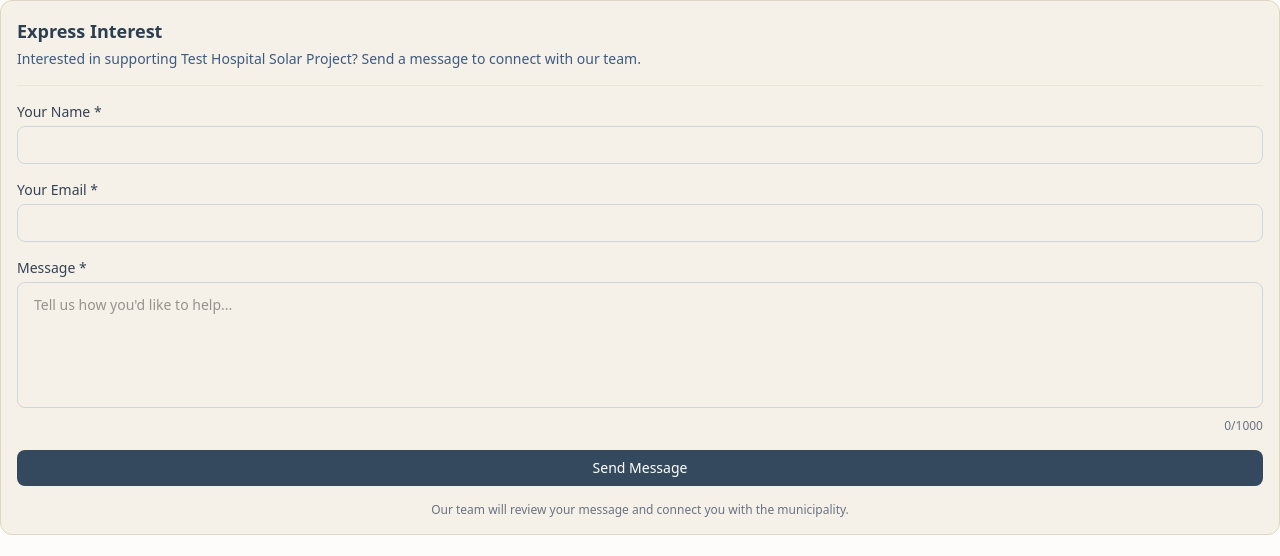
Test: ContactForm › Form submission › shows loading state during submission
The width and height of the screenshot is (1280, 556).
Type "John Doe" into the field labelled "Your Name *".
click(640, 145); type("John Doe")  # box [17,126,1263,164]
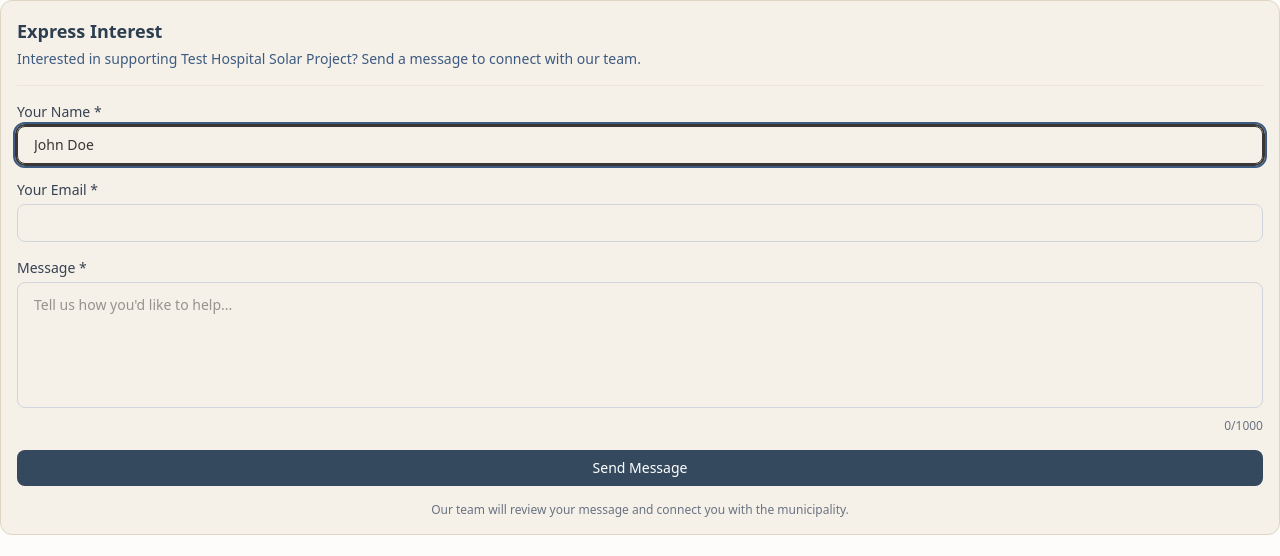
Type "john@example.com" into the field labelled "Your Email *".
click(640, 223); type("john@example.com")  # box [17,204,1263,242]
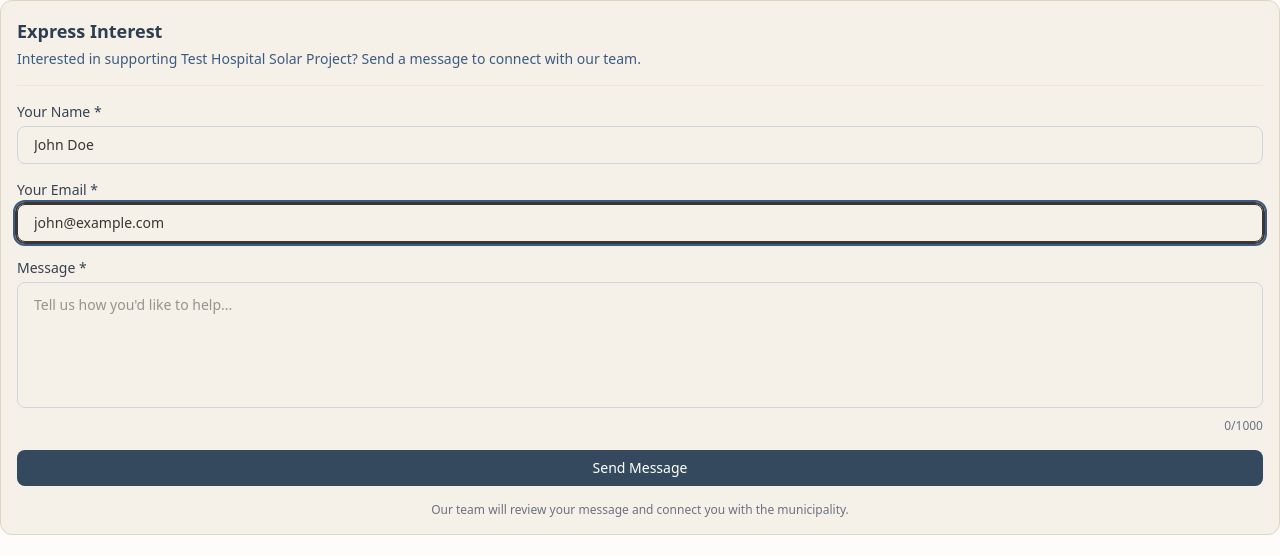
Type "This is a detailed message about how I want to help." into the text box labelled "Message *".
click(640, 345); type("This is a detailed message about how I want to help.")  # box [17,282,1263,408]
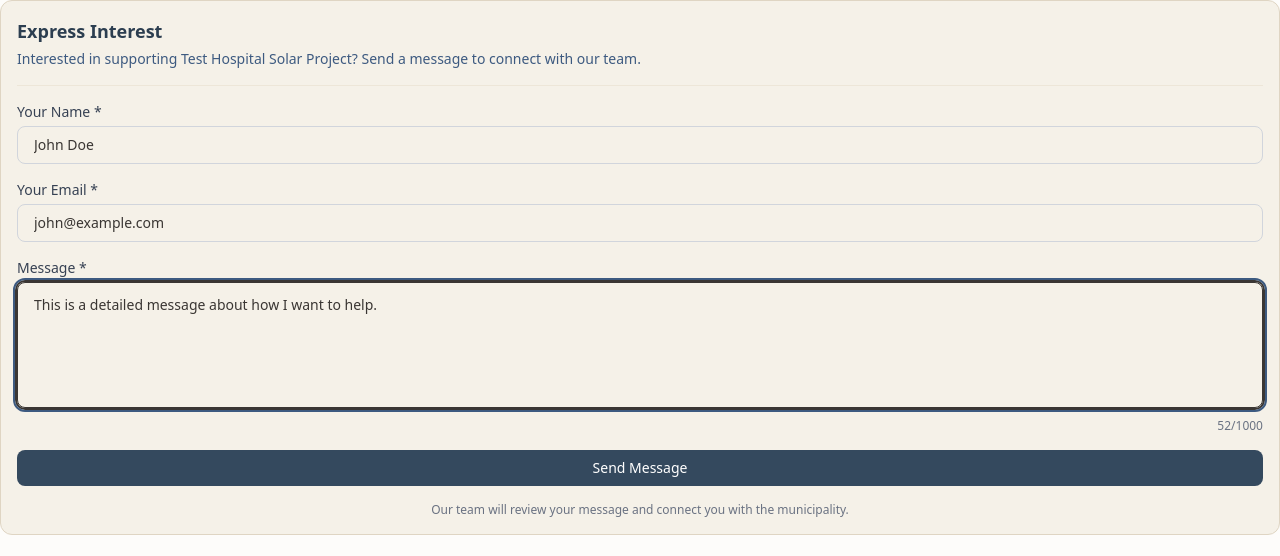
Click the button "Send Message".
click(640, 468)  # box [17,450,1263,486]
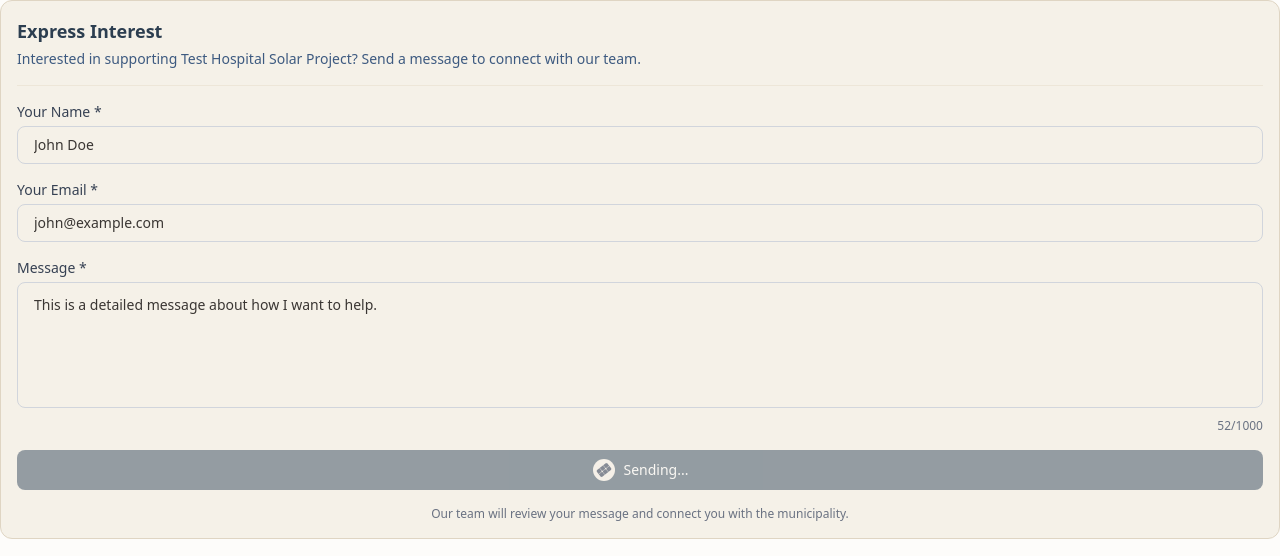
Expected: the button "Sending..." is shown, [17,450,1263,490]
